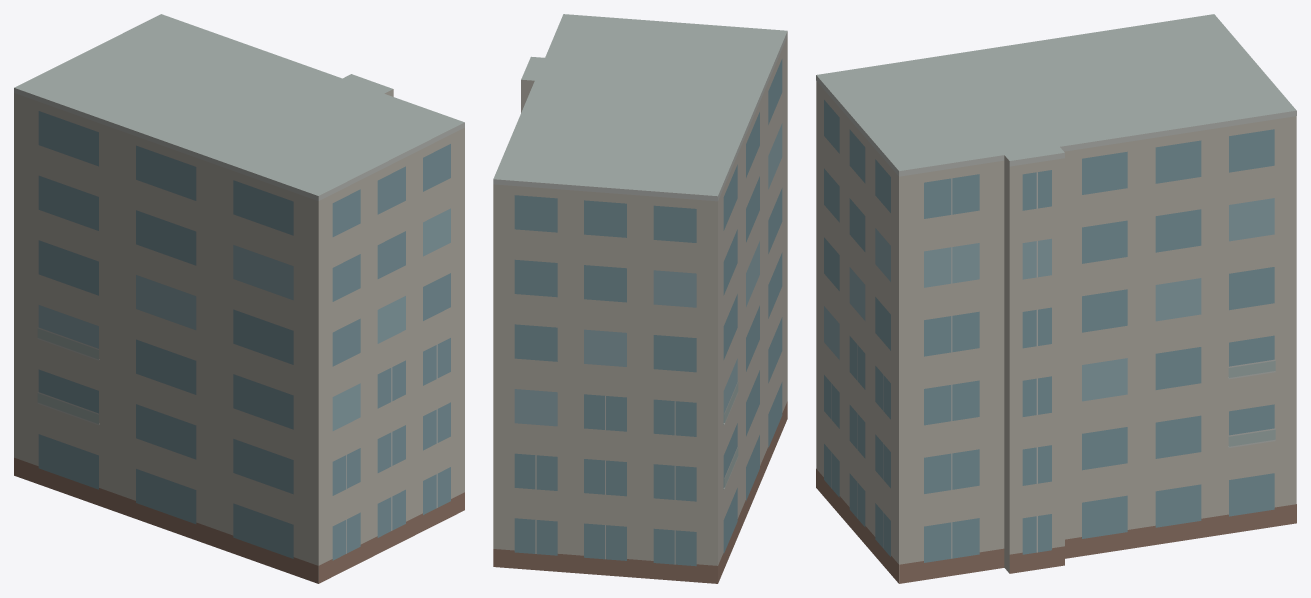
File: survey-upis-32997192.glb
3 views of the same model, side by side, from view 1: azimuth 30°, elevation 25°; view 2: azimuth 150°, elevation 25°; view 3: azimuth 270°, elevation 25° (orthographic). The views are drawn at different scales.
Visible parts, largest first — view 1: survey-upis-32997192.tmp; view 2: survey-upis-32997192.tmp; view 3: survey-upis-32997192.tmp.
Part boxes in pixels (x1,y1,x2,y2): survey-upis-32997192.tmp: [14, 14, 464, 583]; survey-upis-32997192.tmp: [493, 14, 787, 583]; survey-upis-32997192.tmp: [816, 14, 1296, 583].
Size of the model in its own units: 14.96 by 18.3 by 19.33.
